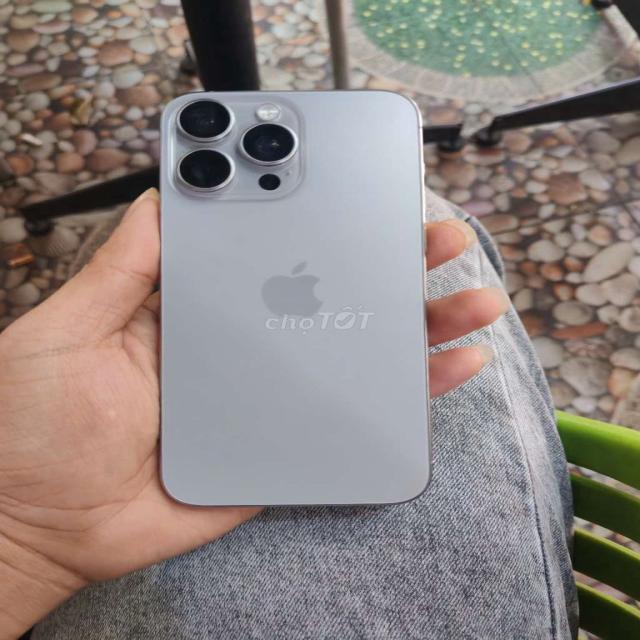gen_15: (138, 83, 447, 527)
